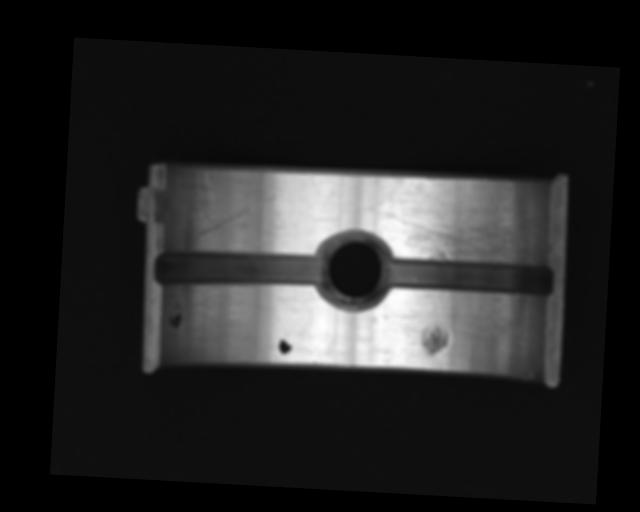blot: (166, 299, 183, 331), (277, 332, 293, 355)
bruise: (419, 323, 450, 356)
gap: (152, 245, 328, 295), (384, 255, 553, 299)
hole: (315, 229, 393, 310)
nick: (194, 189, 277, 242)
scratch: (383, 190, 542, 266)
